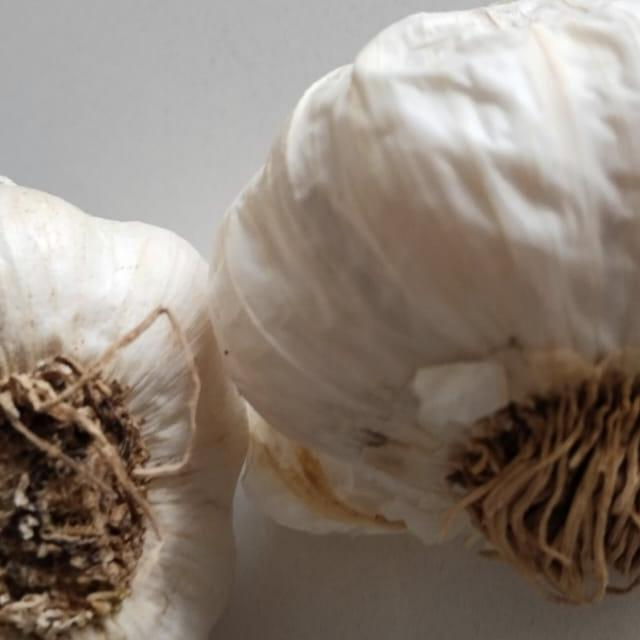garlic: (228, 0, 640, 599), (0, 106, 233, 640)
